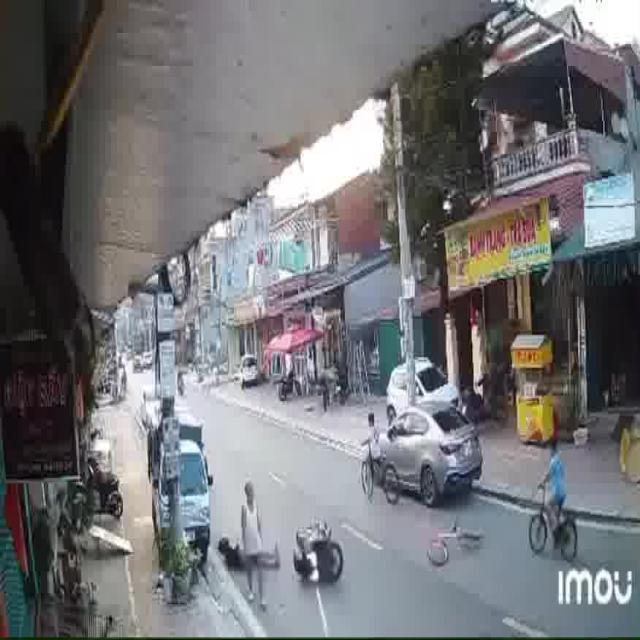multiple_accident: (288, 509, 347, 593), (422, 514, 489, 580)
